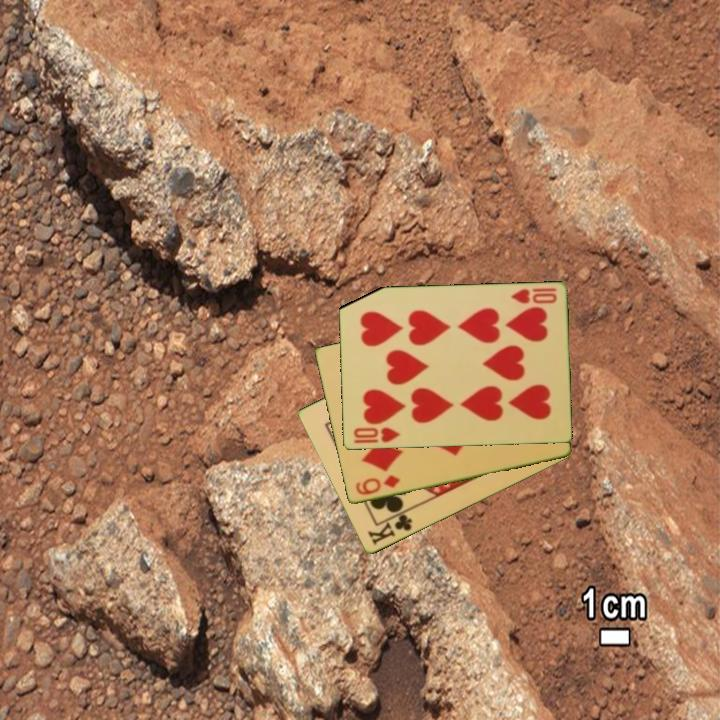10h: (350, 424, 402, 446), (508, 285, 559, 307)
6d: (352, 471, 403, 498)
Kc: (364, 507, 415, 548)
